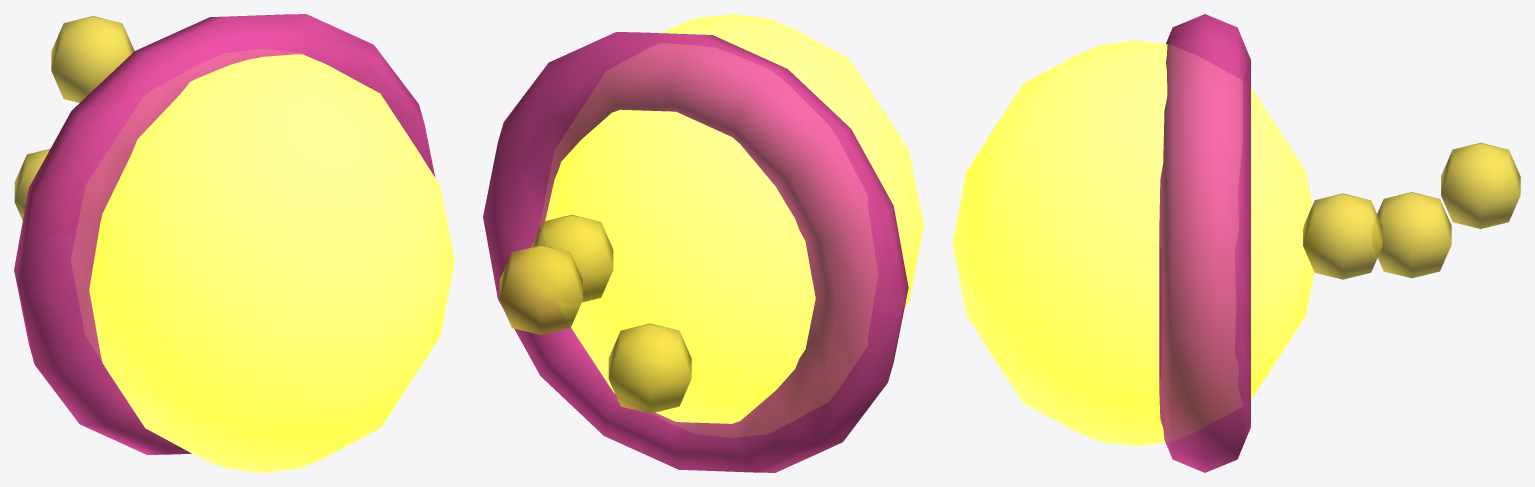
The model's file is lotus_seed.glb.
3 views of the same model, side by side, from view 1: azimuth 30°, elevation 25°; view 2: azimuth 150°, elevation 25°; view 3: azimuth 270°, elevation 25° (orthographic). The views are drawn at different scales.
Visible parts, largest first — view 1: LotusSeed; view 2: LotusSeed; view 3: LotusSeed.
Boxes of the visible parts, left/top/right/bottom form: LotusSeed: left=14, top=14, right=454, bottom=472; LotusSeed: left=483, top=14, right=923, bottom=472; LotusSeed: left=952, top=14, right=1520, bottom=472.
Size of the model in its own units: 0.4 by 0.4 by 0.4946.
